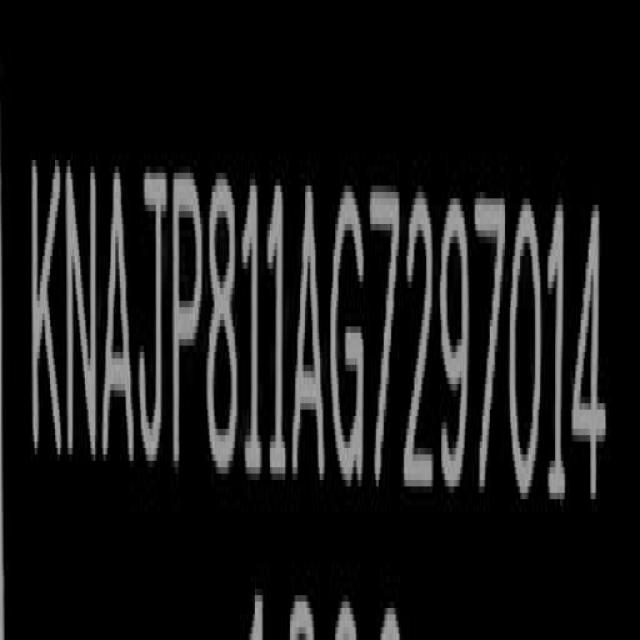0: (512, 192, 545, 508)
1: (242, 168, 263, 488), (548, 196, 569, 511), (268, 172, 288, 485)
2: (406, 190, 437, 504)
4: (572, 197, 607, 512)
7: (475, 184, 506, 509), (369, 179, 399, 484)
8: (208, 170, 239, 489)
9: (439, 191, 469, 505)
A: (292, 174, 328, 487), (102, 161, 137, 481)
G: (331, 182, 367, 493)
J: (140, 167, 167, 455)
K: (32, 151, 64, 477)
N: (65, 154, 96, 477)
P: (167, 159, 204, 493)
